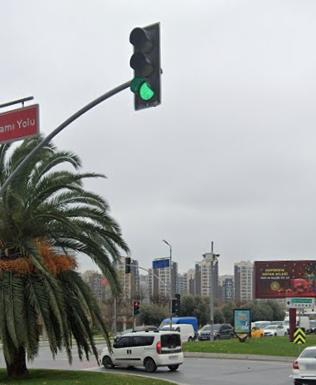greenlight: (128, 26, 162, 108)
